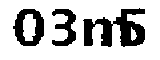0: (10, 4, 46, 57)
3: (51, 3, 82, 50)
6: (118, 3, 156, 51)
n: (81, 14, 115, 54)
